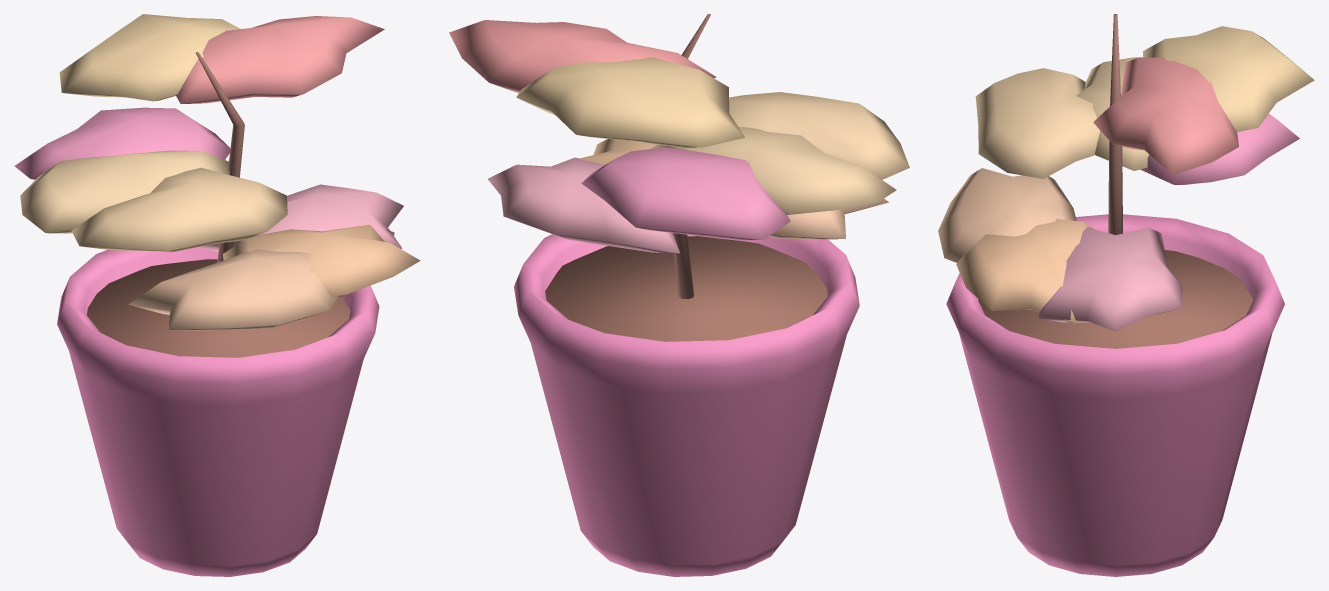
The model's file is WC_RIVER_Potted_Plant_A.glb.
3 renders of one model, left to right at view 1: azimuth 30°, elevation 25°; view 2: azimuth 150°, elevation 25°; view 3: azimuth 270°, elevation 25°, orthographic. The views are drawn at different scales.
Visible parts, largest first — view 1: WC_RIVER_Potted_Plant_A_RenderMesh; view 2: WC_RIVER_Potted_Plant_A_RenderMesh; view 3: WC_RIVER_Potted_Plant_A_RenderMesh.
Part boxes in pixels (bbox=[...]): WC_RIVER_Potted_Plant_A_RenderMesh: bbox=[14, 14, 420, 576]; WC_RIVER_Potted_Plant_A_RenderMesh: bbox=[449, 14, 909, 576]; WC_RIVER_Potted_Plant_A_RenderMesh: bbox=[938, 14, 1314, 576].
Size of the model in its own units: 0.7308 by 0.9 by 0.6006.
